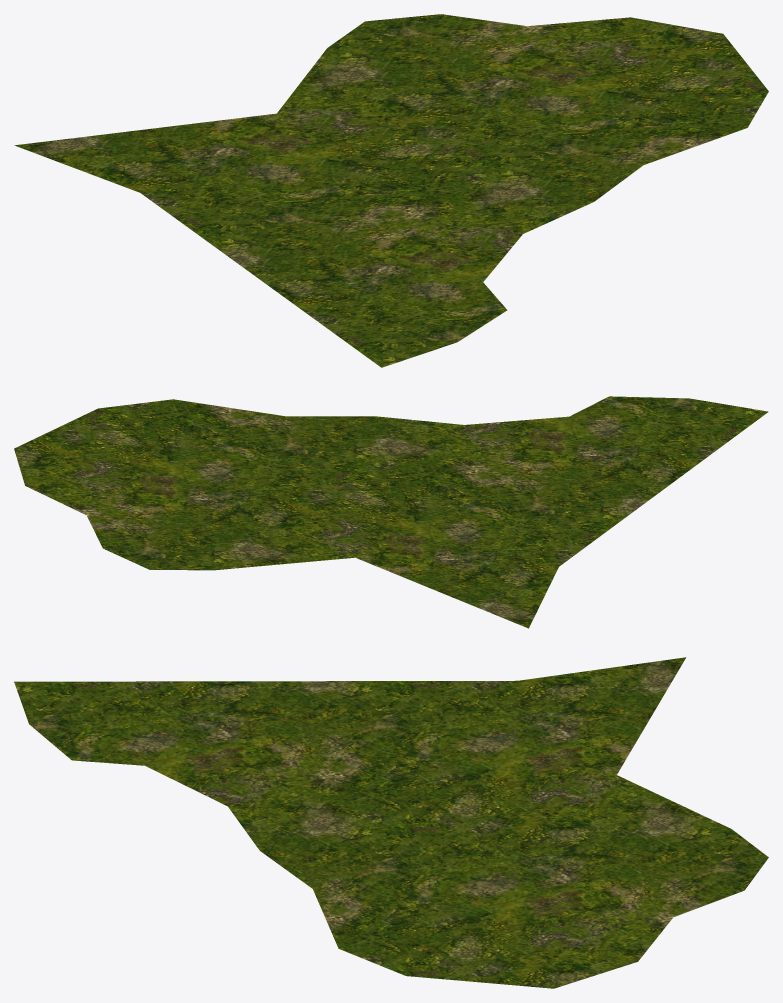
Rendered from OVERHILL_A_01_GROUND_23.fbx.
The picture shows the model from 3 angles, top to bottom: view 1: azimuth 30°, elevation 25°; view 2: azimuth 150°, elevation 25°; view 3: azimuth 270°, elevation 25°; orthographic projection. The views are drawn at different scales.
Visible parts, largest first — view 1: OVERHILL_A_01_GROUND_23; view 2: OVERHILL_A_01_GROUND_23; view 3: OVERHILL_A_01_GROUND_23.
Boxes of the visible parts, left/top/right/bottom form: OVERHILL_A_01_GROUND_23: left=14, top=14, right=768, bottom=367; OVERHILL_A_01_GROUND_23: left=14, top=396, right=768, bottom=628; OVERHILL_A_01_GROUND_23: left=14, top=657, right=768, bottom=988.
Size of the model in its own units: 46271 by 0.00726 by 44532.
1 material, 1 textured.
